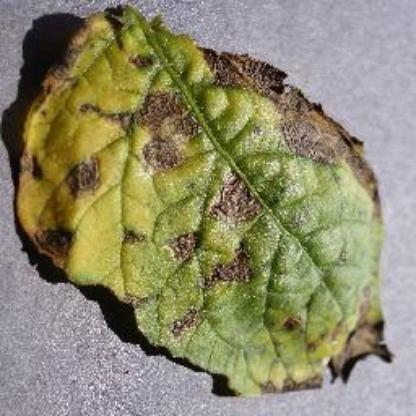Early-Blight: (15, 8, 402, 398)
